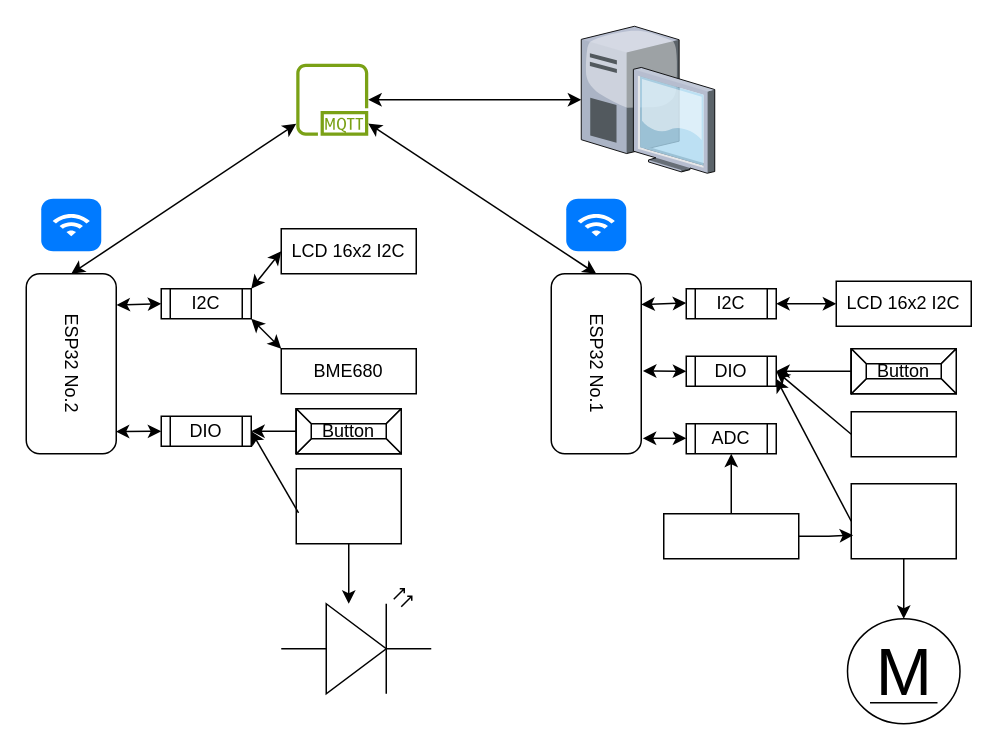
This 998x750 diagram has some shape labels left out. The box of each missing label's shape, as (x1, y1, x2, y2) in pixels:
LDR Module: (850, 410, 956, 457)
LED Driver Cicuit: (295, 467, 401, 544)
MAX 471: (662, 512, 799, 559)
Motor Driver Circuit: (850, 482, 956, 559)
